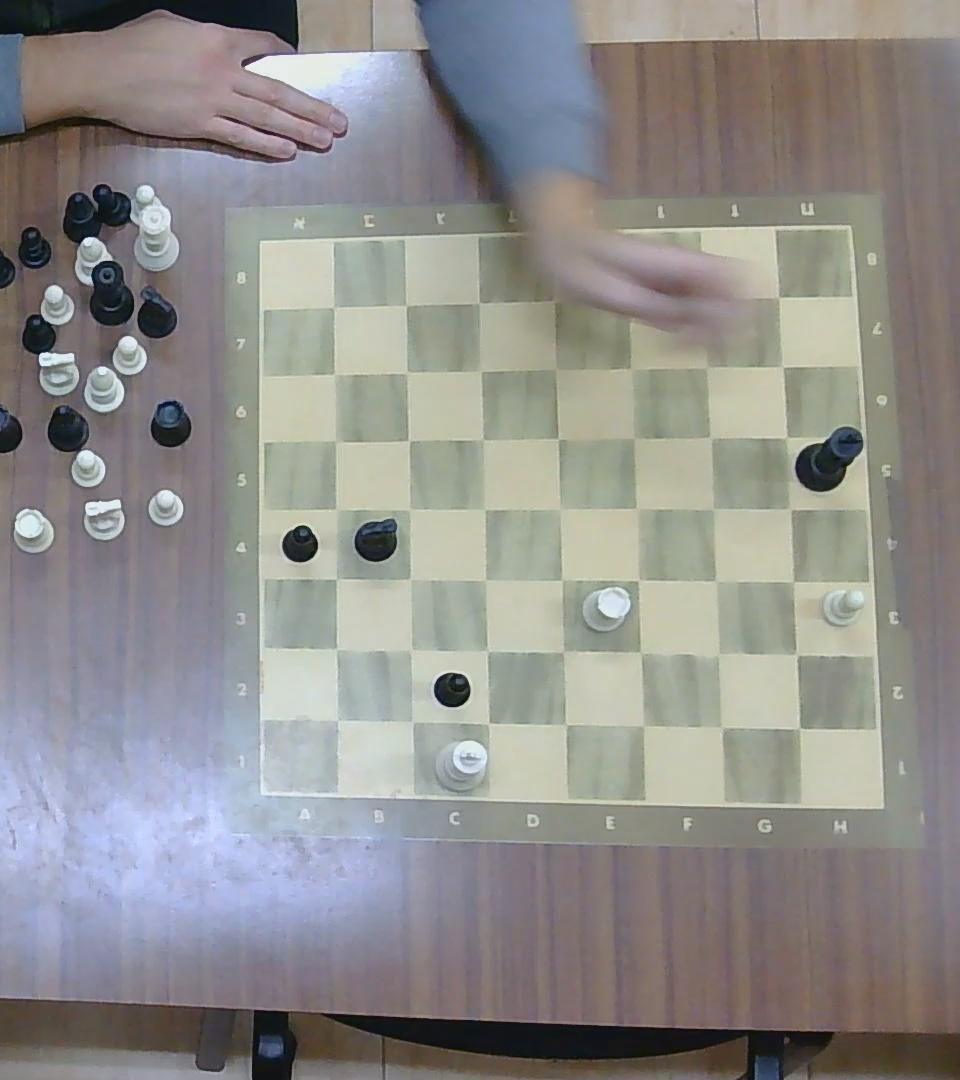xcorner: (701, 638, 734, 670), (548, 706, 580, 738), (626, 709, 658, 741), (705, 710, 736, 743), (783, 711, 814, 743), (622, 563, 653, 594), (471, 707, 503, 737), (625, 637, 655, 668), (396, 705, 427, 735), (781, 639, 812, 669), (548, 636, 578, 666), (321, 705, 351, 735), (609, 283, 639, 313), (539, 285, 569, 315), (465, 286, 494, 317), (622, 493, 652, 522), (545, 493, 574, 522), (395, 635, 424, 664), (699, 493, 728, 522), (548, 564, 577, 593), (392, 289, 421, 318), (320, 292, 349, 321), (542, 353, 571, 382), (687, 282, 716, 311), (471, 637, 501, 665), (470, 566, 500, 594), (700, 566, 730, 594), (470, 493, 498, 522), (321, 635, 350, 663), (693, 352, 721, 380), (777, 568, 806, 595), (468, 424, 495, 453), (396, 564, 423, 593), (617, 354, 646, 381), (545, 423, 573, 450), (467, 356, 495, 383), (393, 357, 421, 384), (765, 283, 793, 310), (769, 352, 797, 379), (396, 494, 423, 521), (395, 427, 423, 453), (321, 361, 349, 387), (778, 494, 804, 521), (323, 427, 349, 453), (323, 565, 349, 591), (324, 496, 350, 522), (621, 424, 648, 449), (697, 424, 723, 449), (773, 424, 799, 449)
